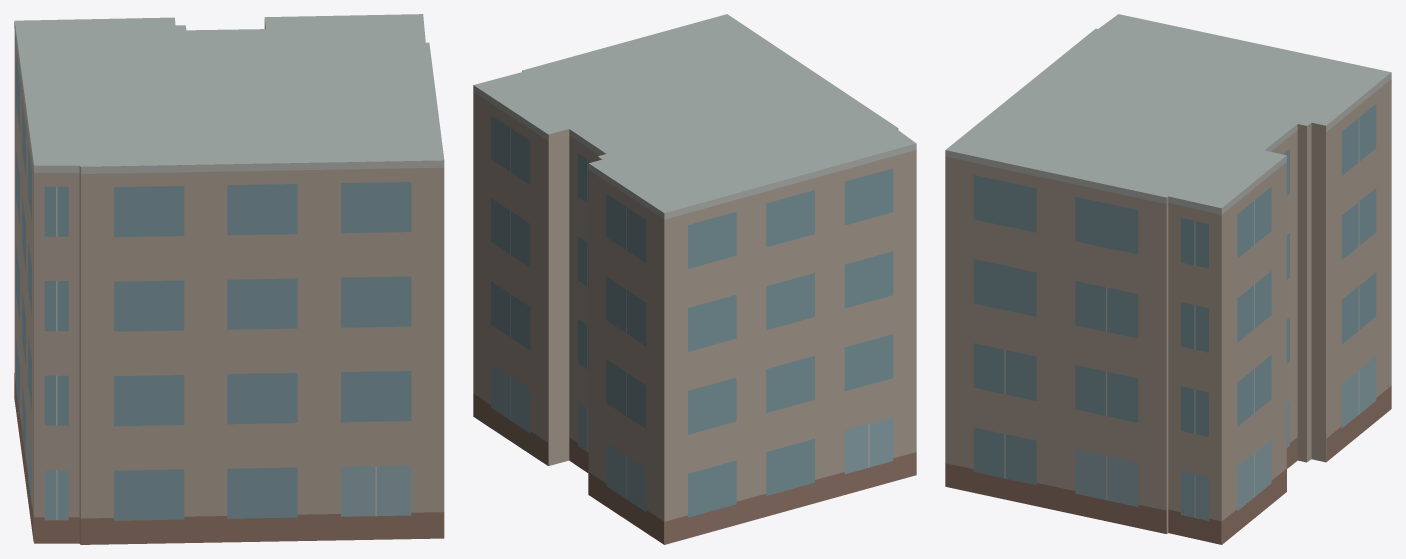
The model's file is survey-upis-32660078.glb.
3 views of the same model, side by side, from view 1: azimuth 30°, elevation 25°; view 2: azimuth 150°, elevation 25°; view 3: azimuth 270°, elevation 25° (orthographic). The views are drawn at different scales.
Parts seen in each view (by area): view 1: survey-upis-32660078.tmp; view 2: survey-upis-32660078.tmp; view 3: survey-upis-32660078.tmp.
Part boxes in pixels (bbox=[...]): survey-upis-32660078.tmp: bbox=[14, 14, 444, 544]; survey-upis-32660078.tmp: bbox=[473, 14, 916, 544]; survey-upis-32660078.tmp: bbox=[945, 14, 1391, 544].
Bounding box in the file's own units: 15.71 × 12.68 × 15.25.
